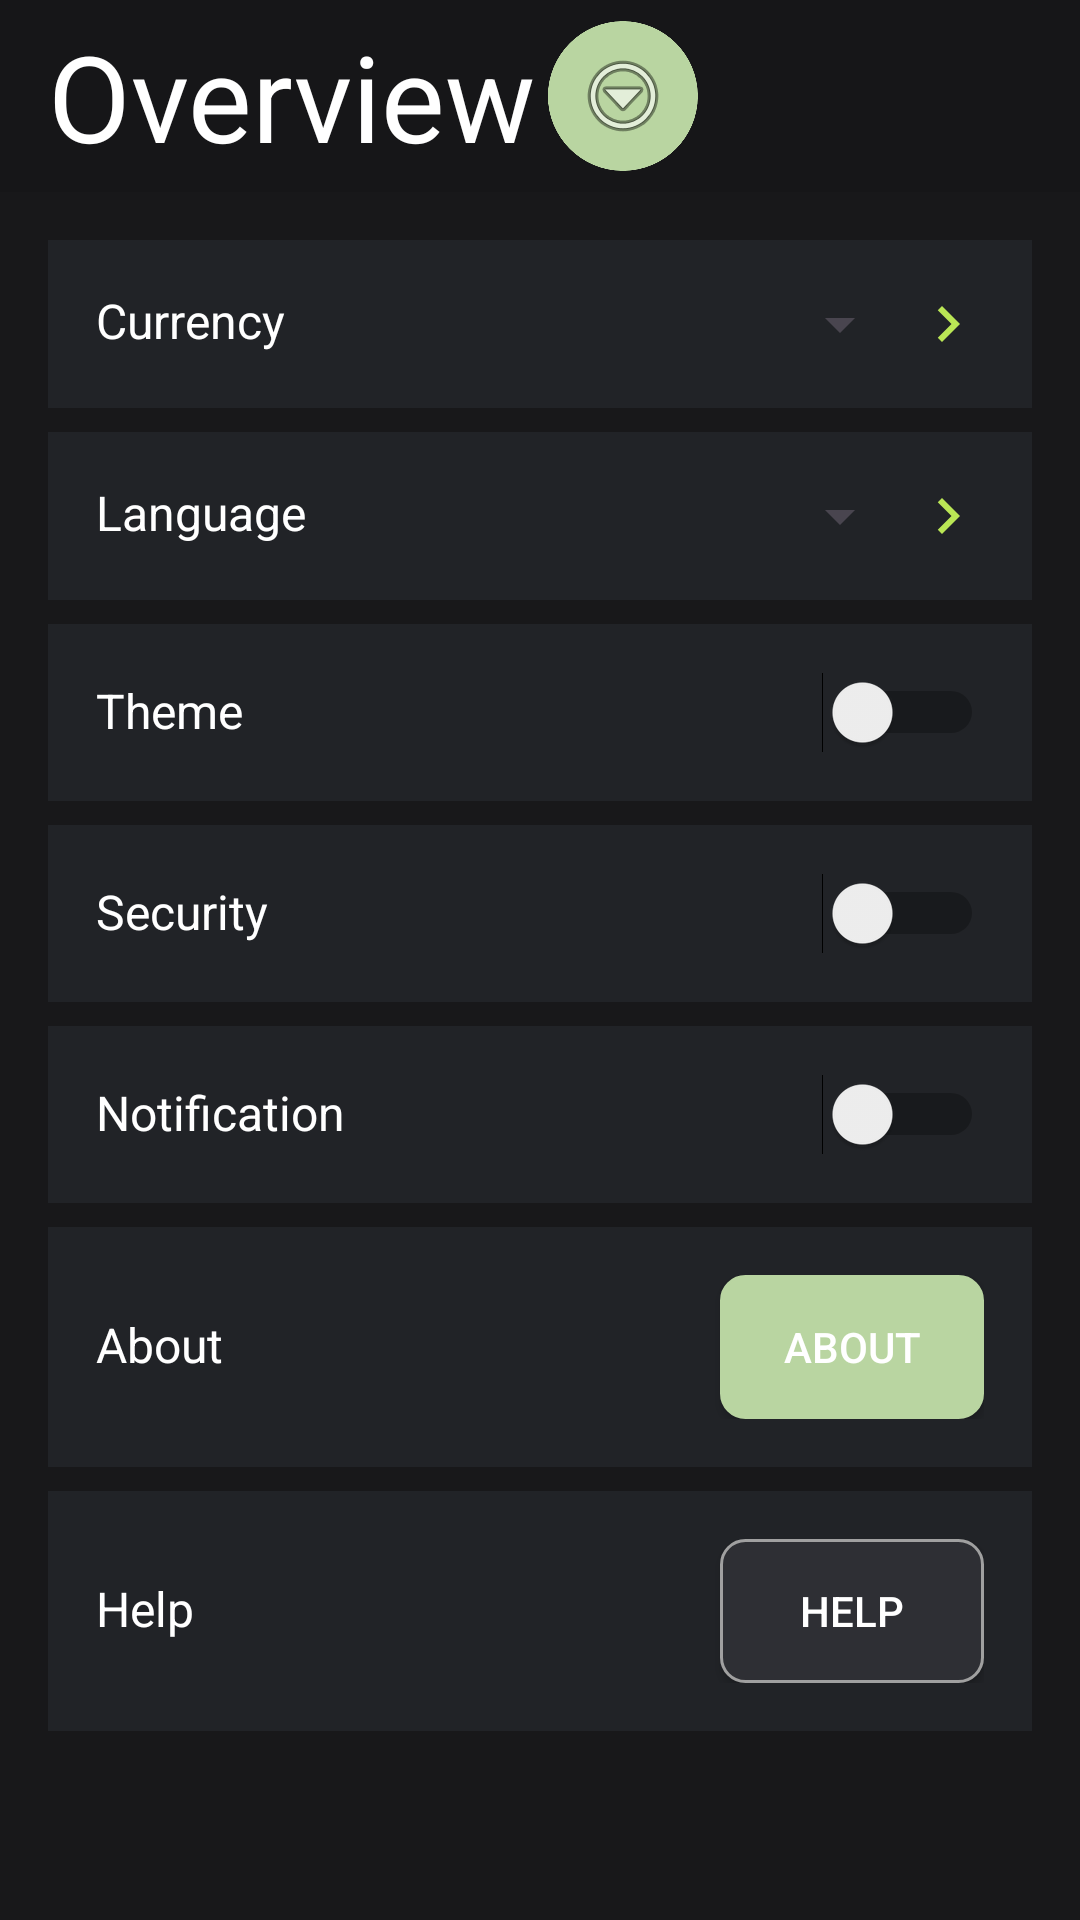

Where icons sit on this 1080w x 1920h app screen, as {"x1": x1, "y1": y1, "x2": x2, "y2": y2}:
chevron right: {"x1": 938, "y1": 306, "x2": 960, "y2": 342}, {"x1": 938, "y1": 498, "x2": 960, "y2": 534}
Menu button: {"x1": 548, "y1": 21, "x2": 698, "y2": 171}
